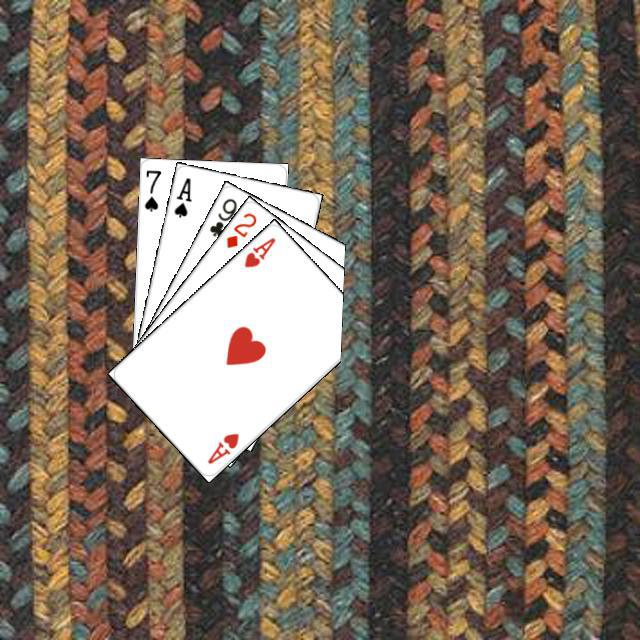2d: (221, 208, 259, 250)
7s: (140, 165, 163, 213)
9c: (205, 193, 239, 238)
Ah: (202, 428, 240, 466), (239, 232, 277, 269)
As: (169, 172, 193, 219)
